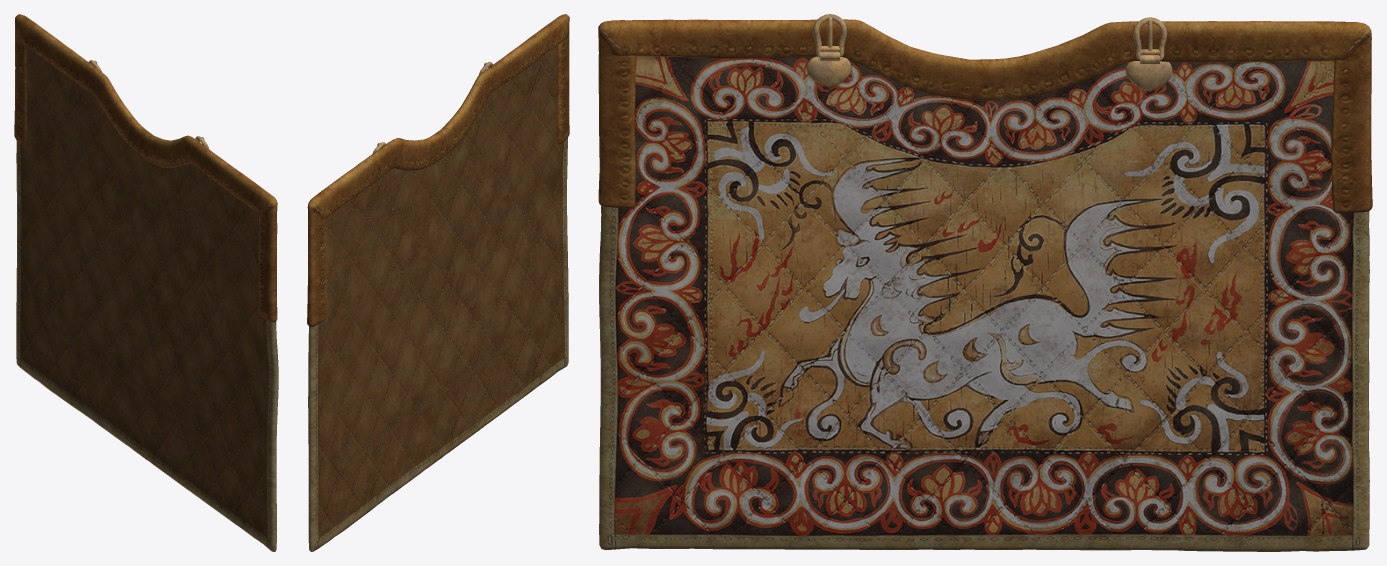
File: Hor_07_3D_01_Pub.glb
3 renders of one model, left to right at view 1: azimuth 30°, elevation 25°; view 2: azimuth 150°, elevation 25°; view 3: azimuth 270°, elevation 25°, orthographic. The views are drawn at different scales.
Visible parts, largest first — view 1: BakeSet_2, BakeSet_1; view 2: BakeSet_2, BakeSet_1; view 3: BakeSet_2, BakeSet_1, BakeSet_7, BakeSet_3.
Part boxes in pixels (x1,y1,x2,y2): BakeSet_2: [16, 47, 278, 551]; BakeSet_1: [14, 14, 277, 322]; BakeSet_2: [308, 45, 568, 551]; BakeSet_1: [307, 14, 569, 326]; BakeSet_2: [599, 55, 1369, 551]; BakeSet_1: [598, 19, 1372, 213]; BakeSet_7: [807, 56, 1172, 91]; BakeSet_3: [813, 14, 1167, 60].
Size of the model in its own units: 0.0242 by 0.5833 by 0.7597.
Materials: 1 (1 with a texture image).
